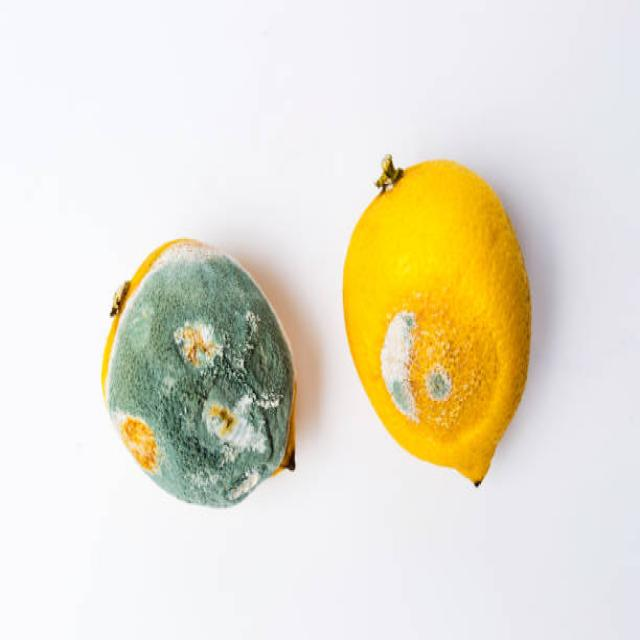Rotten: (340, 158, 532, 489), (99, 236, 298, 509)
